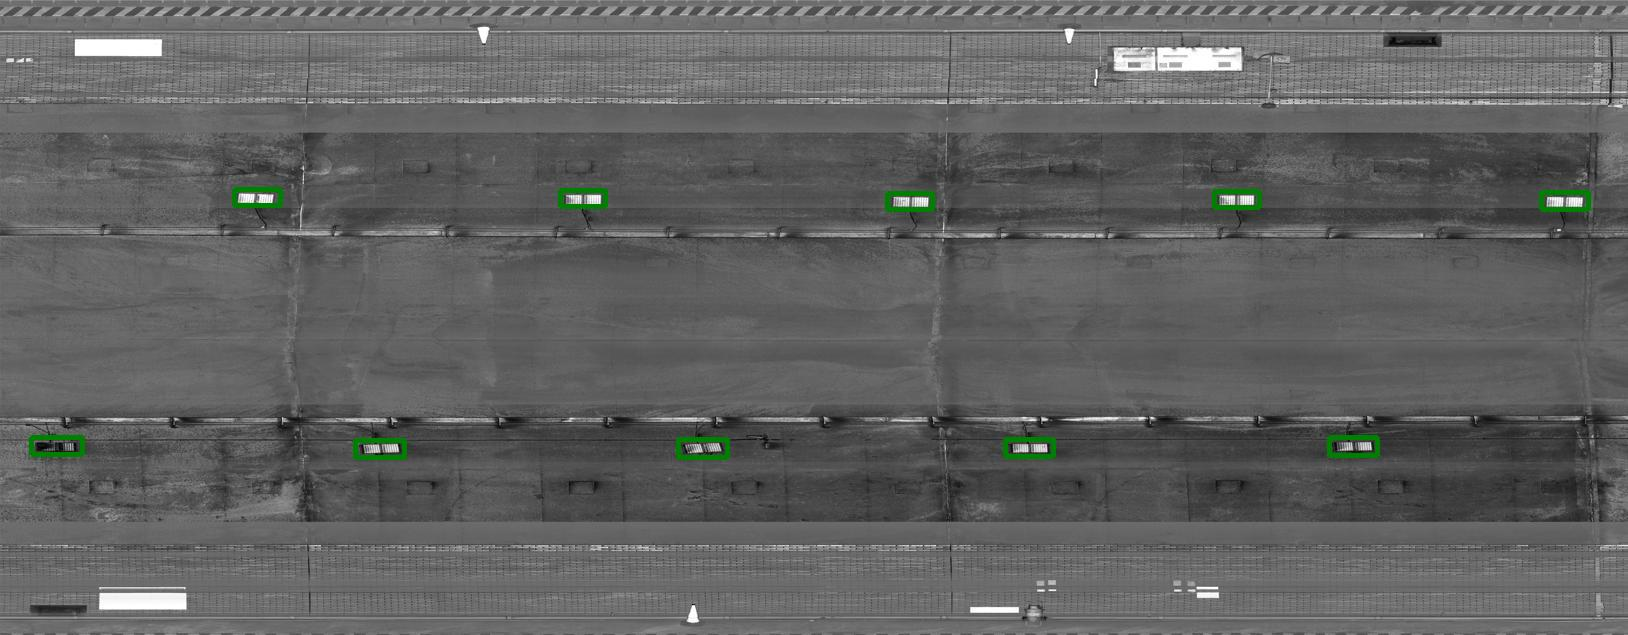light: (883, 191, 933, 213), (229, 188, 279, 210), (30, 438, 80, 460), (354, 436, 404, 458), (557, 189, 606, 211), (678, 435, 728, 457), (1006, 435, 1056, 457), (1213, 189, 1263, 211), (1328, 435, 1378, 457), (1538, 192, 1588, 214)
